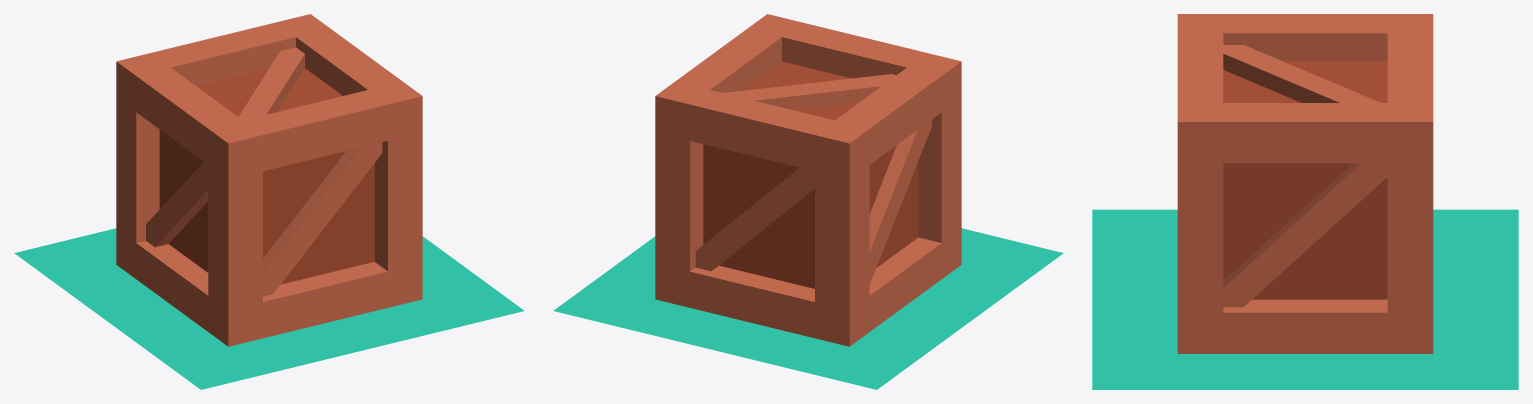
3 views of the same model, side by side, from view 1: azimuth 30°, elevation 25°; view 2: azimuth 150°, elevation 25°; view 3: azimuth 270°, elevation 25° (orthographic). The views are drawn at different scales.
Parts seen in each view (by area): view 1: mergedBlocks(Clone); view 2: mergedBlocks(Clone); view 3: mergedBlocks(Clone).
Boxes of the visible parts, bbox=[...] form: mergedBlocks(Clone): bbox=[14, 14, 524, 389]; mergedBlocks(Clone): bbox=[553, 14, 1063, 389]; mergedBlocks(Clone): bbox=[1092, 14, 1518, 389].
Bounding box in the file's own units: 1 × 0.6 × 1.
